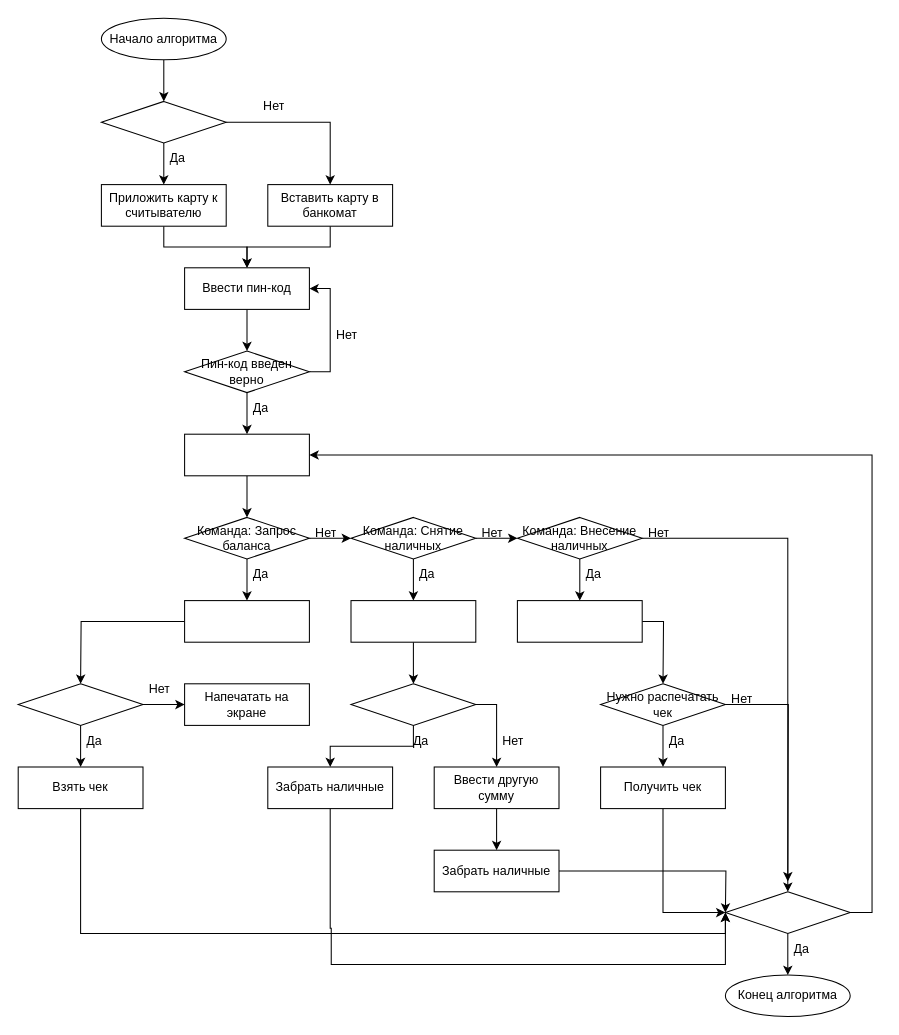
Image size: 899x1035. Some labels were removed from this diagram. The centre of each missing label's shape, as x and y in pixels:
"Ввести сумму" belongs at [413,621].
"Внести наличные в банкомат" belongs at [579,621].
"Выбрать вариант вывода" belongs at [246,621].
"Выбрать команду на экране" belongs at [246,454].
"Есть чип на карте" belongs at [163,121].
"Завершение работы" belongs at [787,912].
"Распечатать чек?" belongs at [80,704].
"Сумма доступна для снятия" belongs at [413,704].
